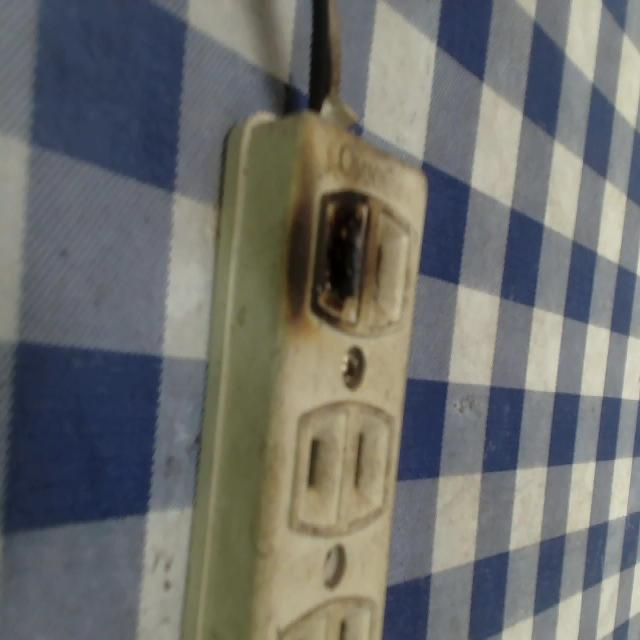-: (303, 186, 374, 330)
